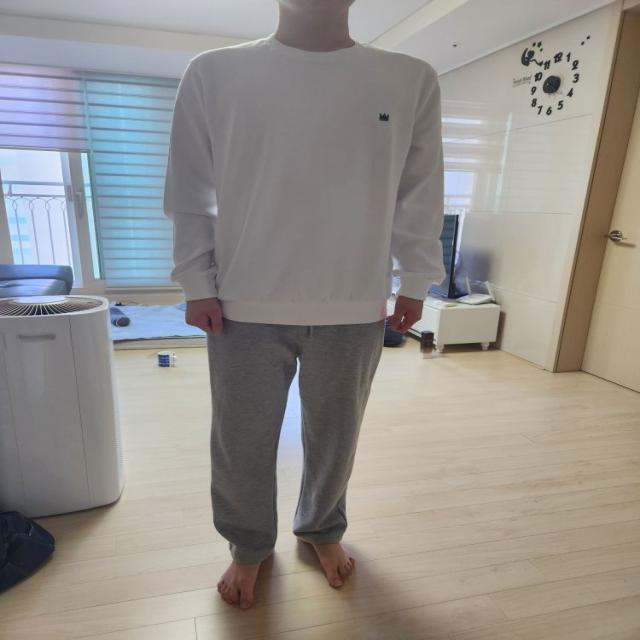longsleeve: (163, 34, 451, 322)
trainingpants: (208, 314, 387, 561)
